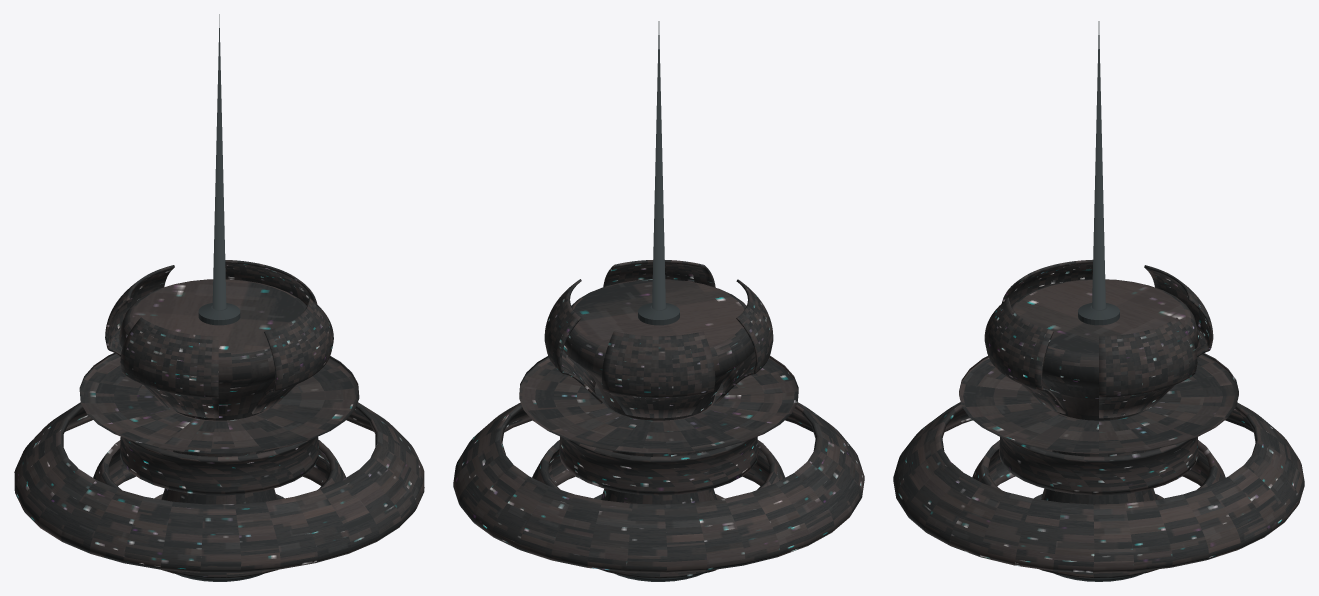
File: center piece space wars.fbx
The picture shows the model from 3 angles, left to right: view 1: azimuth 30°, elevation 25°; view 2: azimuth 150°, elevation 25°; view 3: azimuth 270°, elevation 25°; orthographic projection.
Parts seen in each view (by area): view 1: Cylinder.002; view 2: Cylinder.002; view 3: Cylinder.002.
Boxes of the visible parts, x1,y1,x2,y2 form: Cylinder.002: (14, 14, 424, 581); Cylinder.002: (453, 21, 864, 581); Cylinder.002: (893, 21, 1304, 581).
Bounding box in the file's own units: 1958 × 2846 × 1958.
